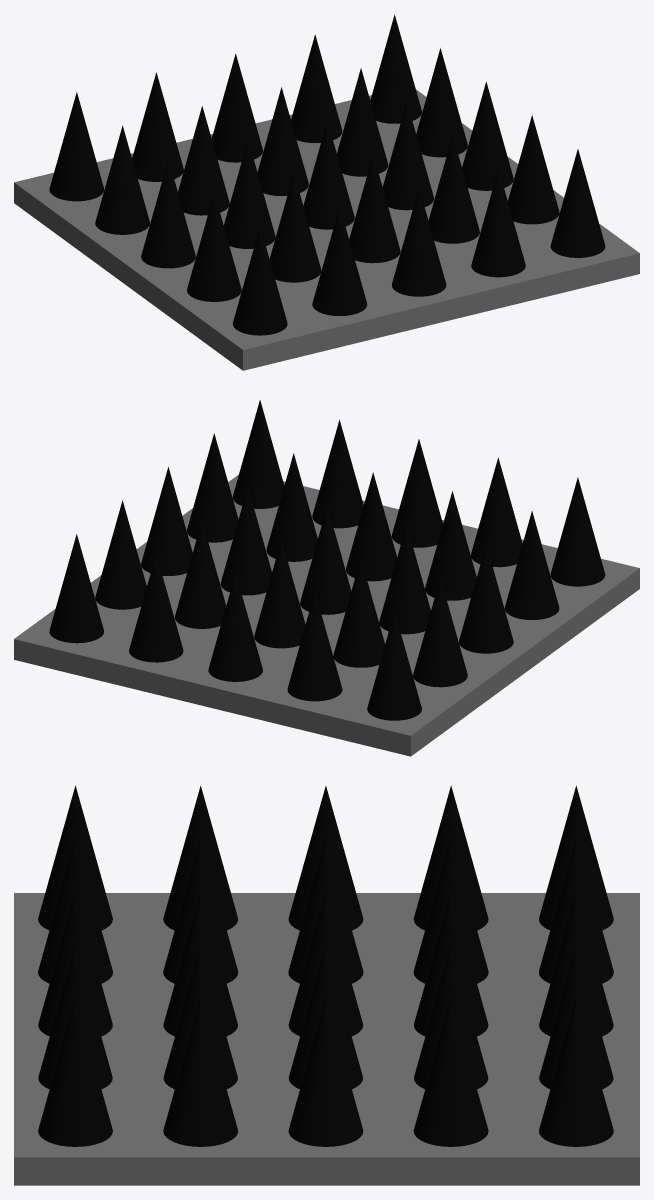
The model's file is PeaksTIle.fbx.
The picture shows the model from 3 angles, top to bottom: view 1: azimuth 30°, elevation 25°; view 2: azimuth 150°, elevation 25°; view 3: azimuth 270°, elevation 25°; orthographic projection. The views are drawn at different scales.
Visible parts, largest first — view 1: PeaksTile; view 2: PeaksTile; view 3: PeaksTile.
Boxes of the visible parts, x1,y1,x2,y2 form: PeaksTile: (14, 14, 639, 370); PeaksTile: (14, 400, 639, 756); PeaksTile: (14, 785, 639, 1185).
Bounding box in the file's own units: 200 × 57.42 × 200.
1 material, 1 textured.
